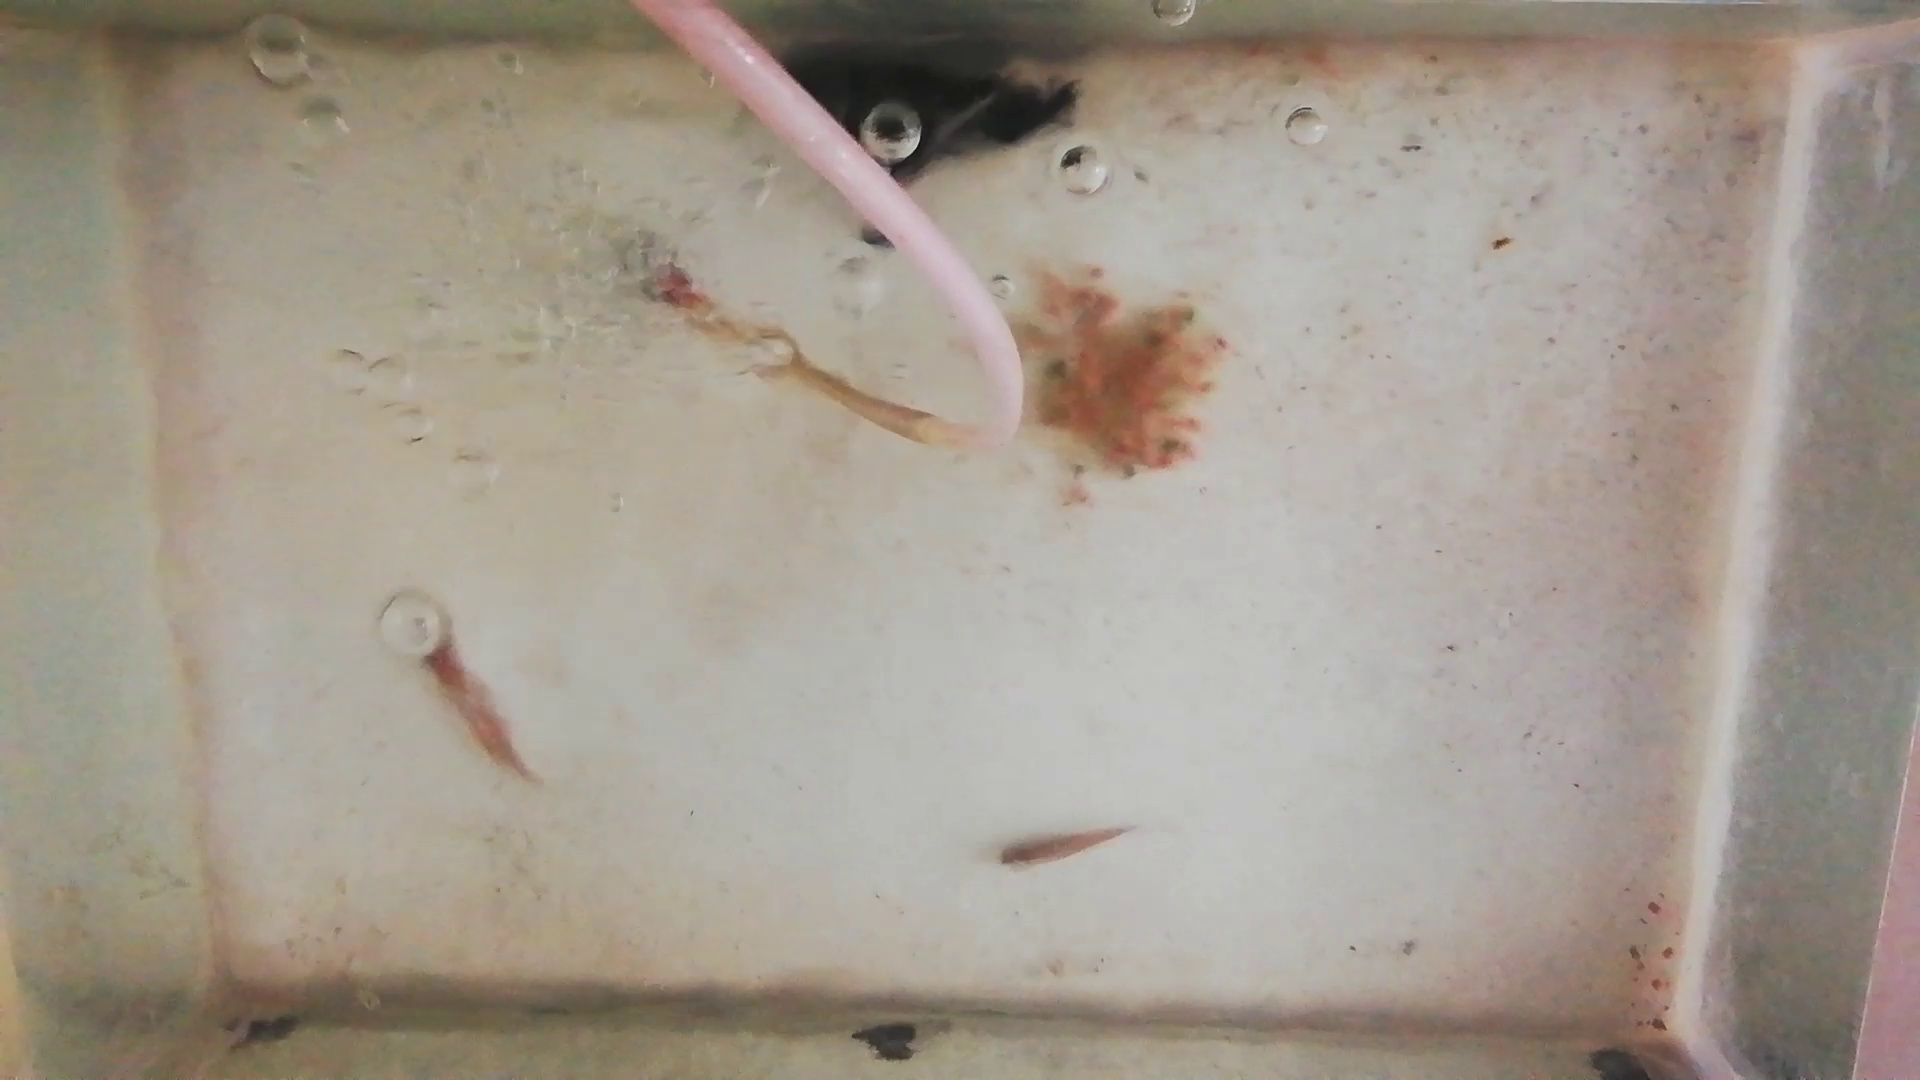fish: (415, 622, 535, 781), (997, 823, 1127, 870)
